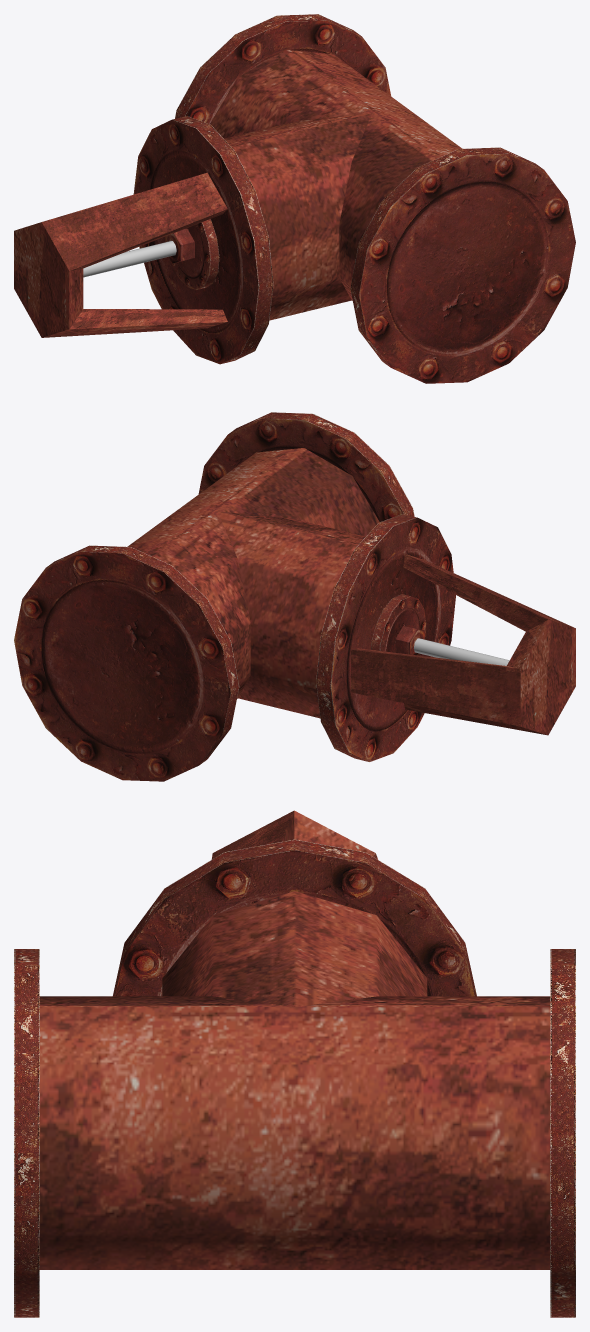
File: valve_red.DAE
3 renders of one model, top to bottom at view 1: azimuth 30°, elevation 25°; view 2: azimuth 150°, elevation 25°; view 3: azimuth 270°, elevation 25°, orthographic. The views are drawn at different scales.
Parts seen in each view (by area): view 1: Box342, Box341, Box347; view 2: Box342, Box341, Box347; view 3: Box341, Box342.
Part boxes in pixels (x1=…): Box342: x1=133, y1=14, x2=575, y2=383; Box341: x1=14, y1=49, x2=462, y2=337; Box347: x1=83, y1=241, x2=176, y2=277; Box342: x1=14, y1=412, x2=455, y2=781; Box341: x1=127, y1=448, x2=575, y2=735; Box347: x1=413, y1=638, x2=509, y2=665; Box341: x1=39, y1=810, x2=550, y2=1269; Box342: x1=14, y1=839, x2=575, y2=1317.
Bounding box in the file's own units: 1.33 × 1 × 0.6566.
